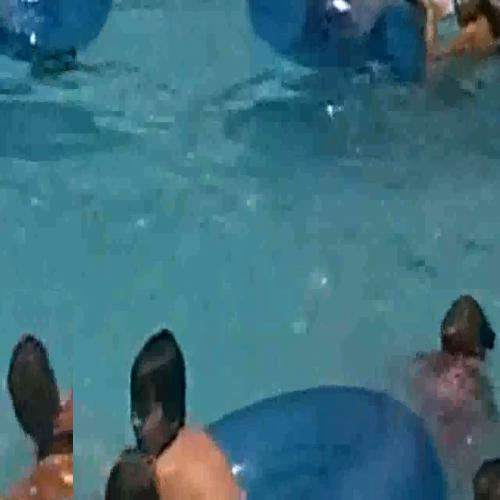drowning: (349, 265, 499, 454)
swimming: (117, 332, 229, 499), (0, 291, 74, 499)
